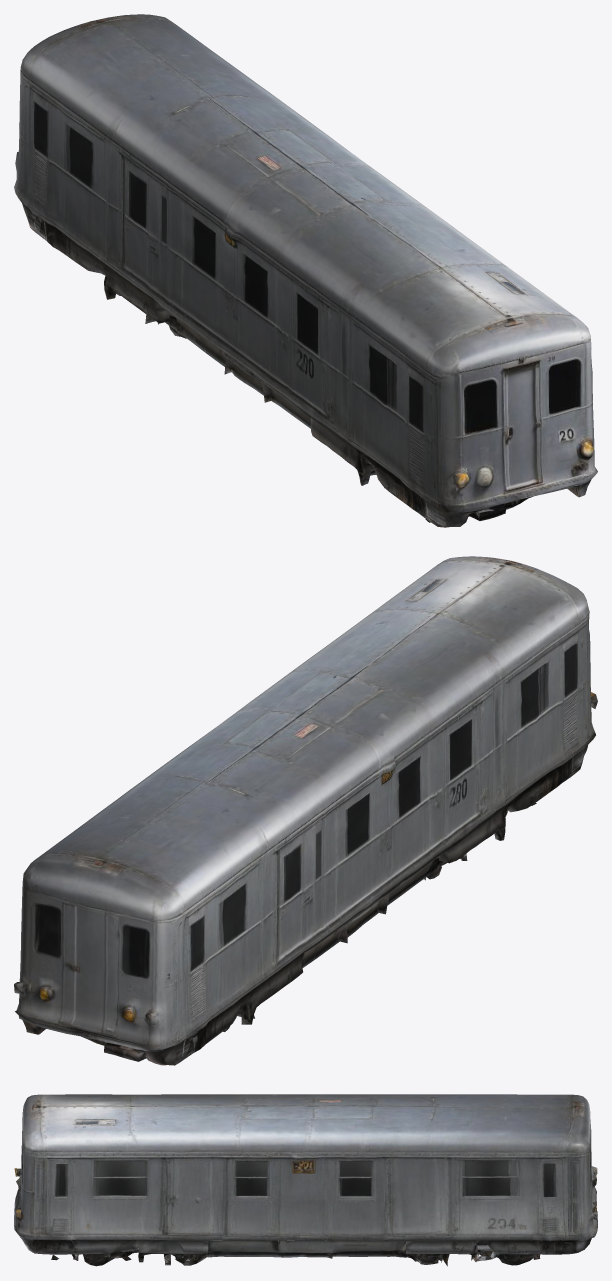
File: m-silver.glb
The picture shows the model from 3 angles, top to bottom: view 1: azimuth 30°, elevation 25°; view 2: azimuth 150°, elevation 25°; view 3: azimuth 270°, elevation 25°; orthographic projection. The views are drawn at different scales.
Visible parts, largest first — view 1: Mesh_0; view 2: Mesh_0; view 3: Mesh_0.
Boxes of the visible parts, x1,y1,x2,y2 form: Mesh_0: [14, 14, 597, 527]; Mesh_0: [14, 556, 597, 1065]; Mesh_0: [14, 1094, 597, 1266].
Size of the model in its own units: 0.4316 by 0.5626 by 1.99.
Materials: 1 (1 with a texture image).
